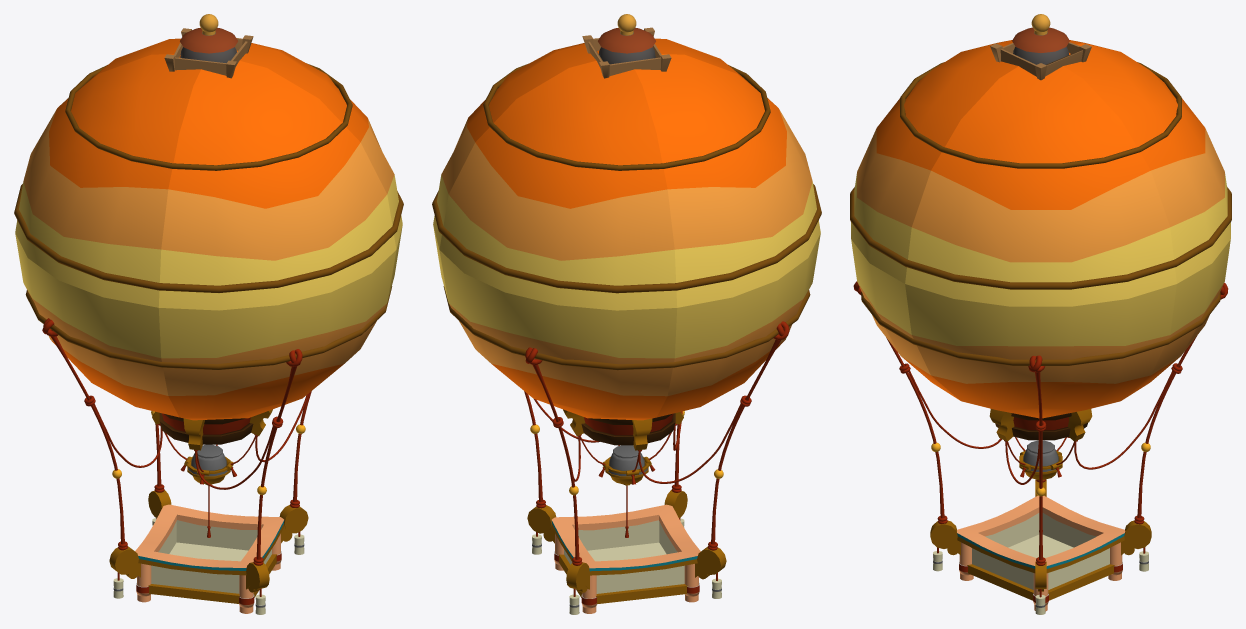
File: balloon.fbx
3 renders of one model, left to right at view 1: azimuth 30°, elevation 25°; view 2: azimuth 150°, elevation 25°; view 3: azimuth 270°, elevation 25°, orthographic.
Visible parts, largest first — view 1: Ballon.001, pCube24, pCube23, pTorus2, pTorus3, pTorus1, Vsas.001, pCylinder61, pTorus15, pCube39, pCube25, polySurface29 (+5 smaller); view 2: Ballon.001, pCube24, pCube23, pTorus2, pTorus3, pTorus1, Vsas.001, pCylinder61, pCylinder60, pCube39, pCube25, polySurface29 (+5 smaller); view 3: Ballon.001, pCube24, pCube23, pTorus2, pTorus3, pTorus1, pTorus14, pCube25, pCylinder60, pCube39, pTorus15, Vsas.001 (+7 smaller).
Boxes of the visible parts, x1,y1,x2,y2 form: Ballon.001: [15, 38, 402, 420]; pCube24: [135, 504, 284, 575]; pCube23: [151, 520, 271, 593]; pTorus2: [14, 184, 403, 292]; pTorus3: [65, 63, 352, 170]; pTorus1: [25, 286, 392, 369]; Vsas.001: [159, 413, 253, 444]; pCylinder61: [42, 318, 187, 550]; pTorus15: [194, 349, 302, 565]; pCube39: [164, 28, 253, 78]; pCube25: [148, 554, 276, 603]; polySurface29: [180, 28, 237, 53]; Ballon.001: [433, 38, 820, 420]; pCube24: [551, 504, 700, 575]; pCube23: [564, 520, 684, 593]; pTorus2: [432, 184, 821, 293]; pTorus3: [483, 63, 770, 170]; pTorus1: [443, 286, 810, 370]; Vsas.001: [581, 413, 675, 445]; pCylinder61: [631, 321, 789, 550]; pCylinder60: [525, 347, 605, 565]; pCube39: [582, 27, 671, 78]; pCube25: [559, 554, 687, 604]; polySurface29: [598, 28, 655, 53]; Ballon.001: [851, 40, 1230, 418]; pCube24: [957, 495, 1125, 573]; pCube23: [972, 513, 1109, 589]; pTorus2: [850, 187, 1231, 289]; pTorus3: [900, 62, 1181, 168]; pTorus1: [861, 291, 1220, 365]; pTorus14: [1004, 355, 1046, 565]; pCube25: [967, 564, 1114, 600]; pCylinder60: [1055, 283, 1228, 524]; pCube39: [990, 42, 1091, 80]; pTorus15: [853, 281, 1025, 524]; Vsas.001: [995, 413, 1087, 440].
Size of what is drawn, in the model's own units: 27.79 by 45.23 by 27.79.
